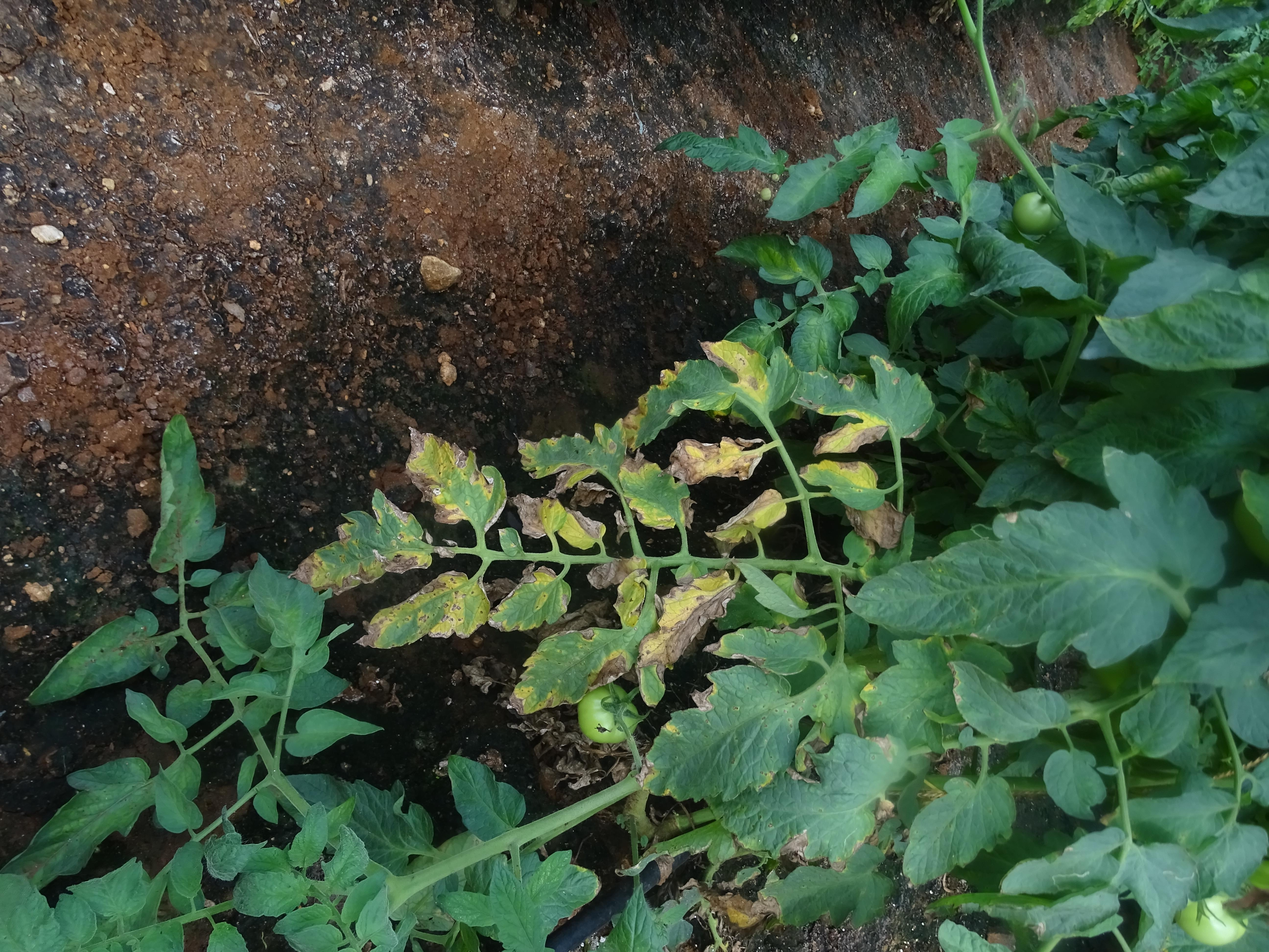Early Blight: (885, 353, 1070, 474), (649, 630, 793, 739), (455, 352, 573, 478), (478, 250, 610, 362), (834, 477, 955, 572), (760, 394, 902, 474), (761, 582, 870, 686), (567, 570, 702, 650), (551, 481, 664, 566), (829, 333, 900, 427), (599, 430, 708, 490), (653, 494, 737, 569), (576, 377, 653, 454), (754, 522, 846, 586), (609, 288, 684, 353)
Healthy: (1001, 555, 1124, 618), (939, 663, 1012, 739)
Leaf_Miner: (1104, 106, 1195, 206)
